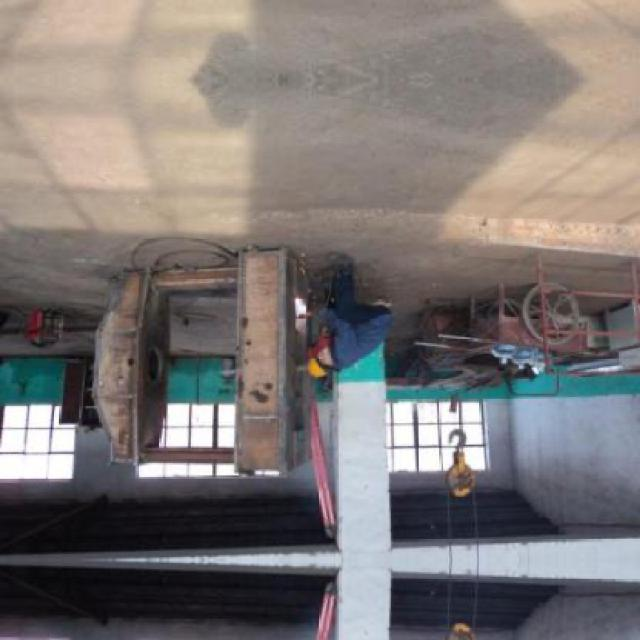con casco: (245, 307, 355, 389)
